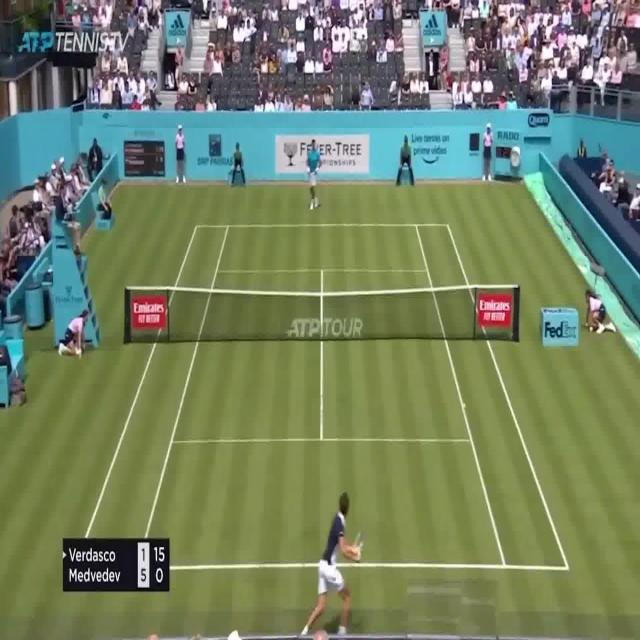bottom-dead-zone: (139, 441, 505, 567)
court: (75, 223, 570, 572)
left-doubles-alley: (77, 226, 228, 564)
left-service-box: (171, 268, 323, 442)
net: (123, 283, 521, 346)
right-doubles-alley: (415, 224, 569, 570)
right-service-box: (321, 270, 473, 442)
top-dead-zone: (217, 226, 428, 272)
